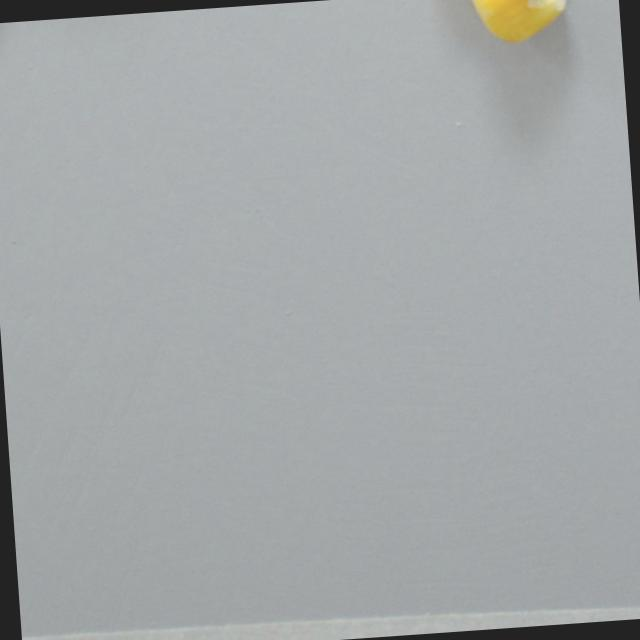punto_negro: (467, 0, 572, 46)
